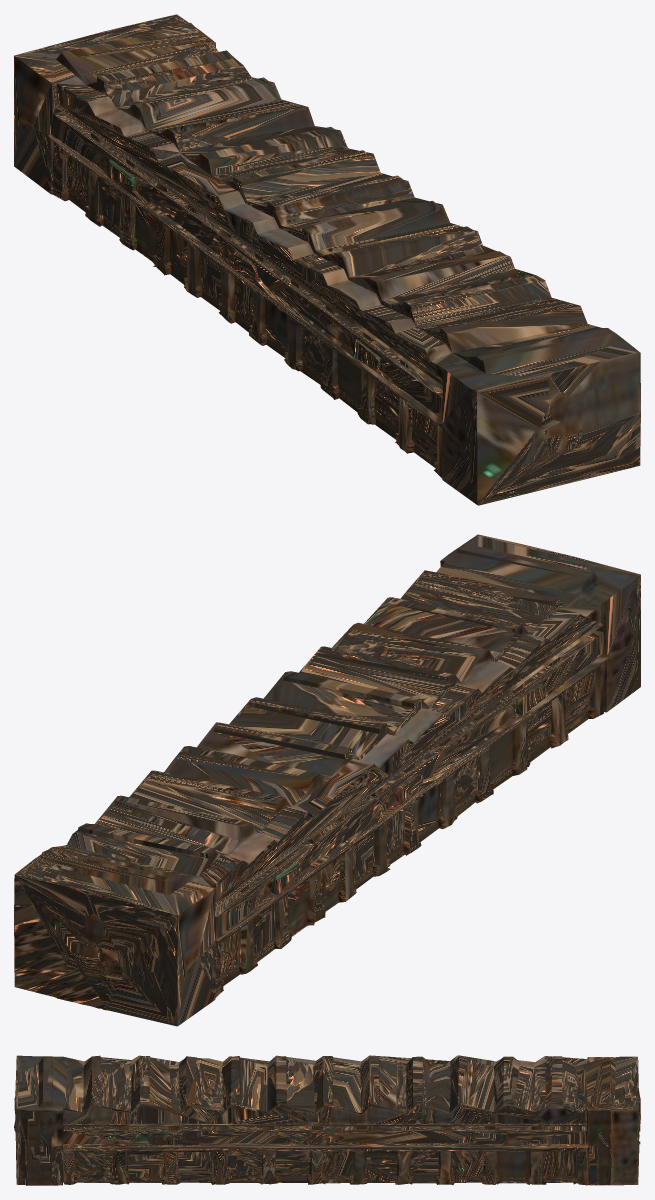
Rendered from l02_far.glb.
The picture shows the model from 3 angles, top to bottom: view 1: azimuth 30°, elevation 25°; view 2: azimuth 150°, elevation 25°; view 3: azimuth 270°, elevation 25°; orthographic projection. The views are drawn at different scales.
Visible parts, largest first — view 1: l02_far; view 2: l02_far; view 3: l02_far.
Boxes of the visible parts, bbox=[...] form: l02_far: bbox=[14, 14, 640, 505]; l02_far: bbox=[14, 534, 640, 1026]; l02_far: bbox=[14, 1055, 640, 1185].
Bounding box in the file's own units: 31.4 × 22 × 147.
1 material, 1 textured.
